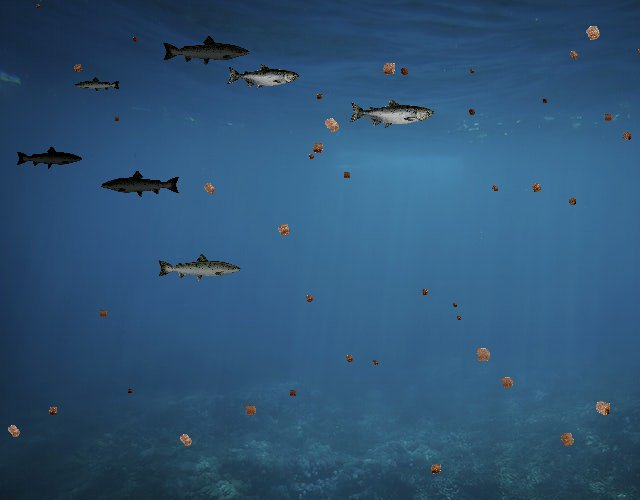Fish: (162, 35, 252, 67), (156, 252, 242, 283), (348, 98, 434, 129), (101, 169, 182, 198), (226, 64, 299, 90), (16, 146, 84, 170), (75, 76, 122, 93)
Pellet: (316, 110, 346, 140), (469, 340, 497, 368), (495, 371, 519, 395), (197, 176, 221, 200), (526, 177, 546, 197), (305, 150, 318, 163), (454, 312, 464, 322)
